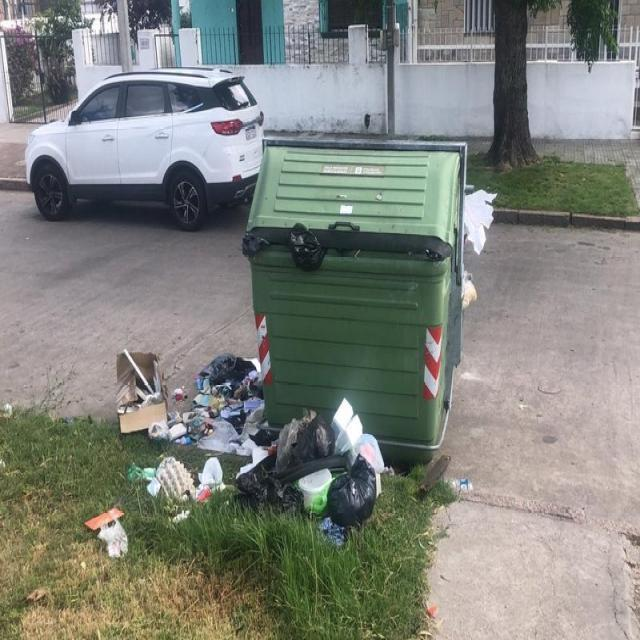garbage: (114, 348, 278, 496), (284, 392, 374, 545), (242, 216, 336, 270), (462, 186, 493, 310), (84, 507, 131, 558), (448, 472, 481, 498), (1, 398, 18, 422)
